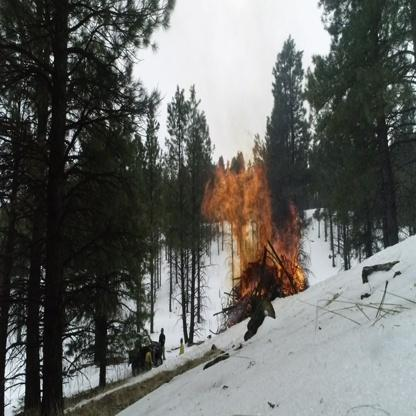Fire: (199, 143, 308, 302)
